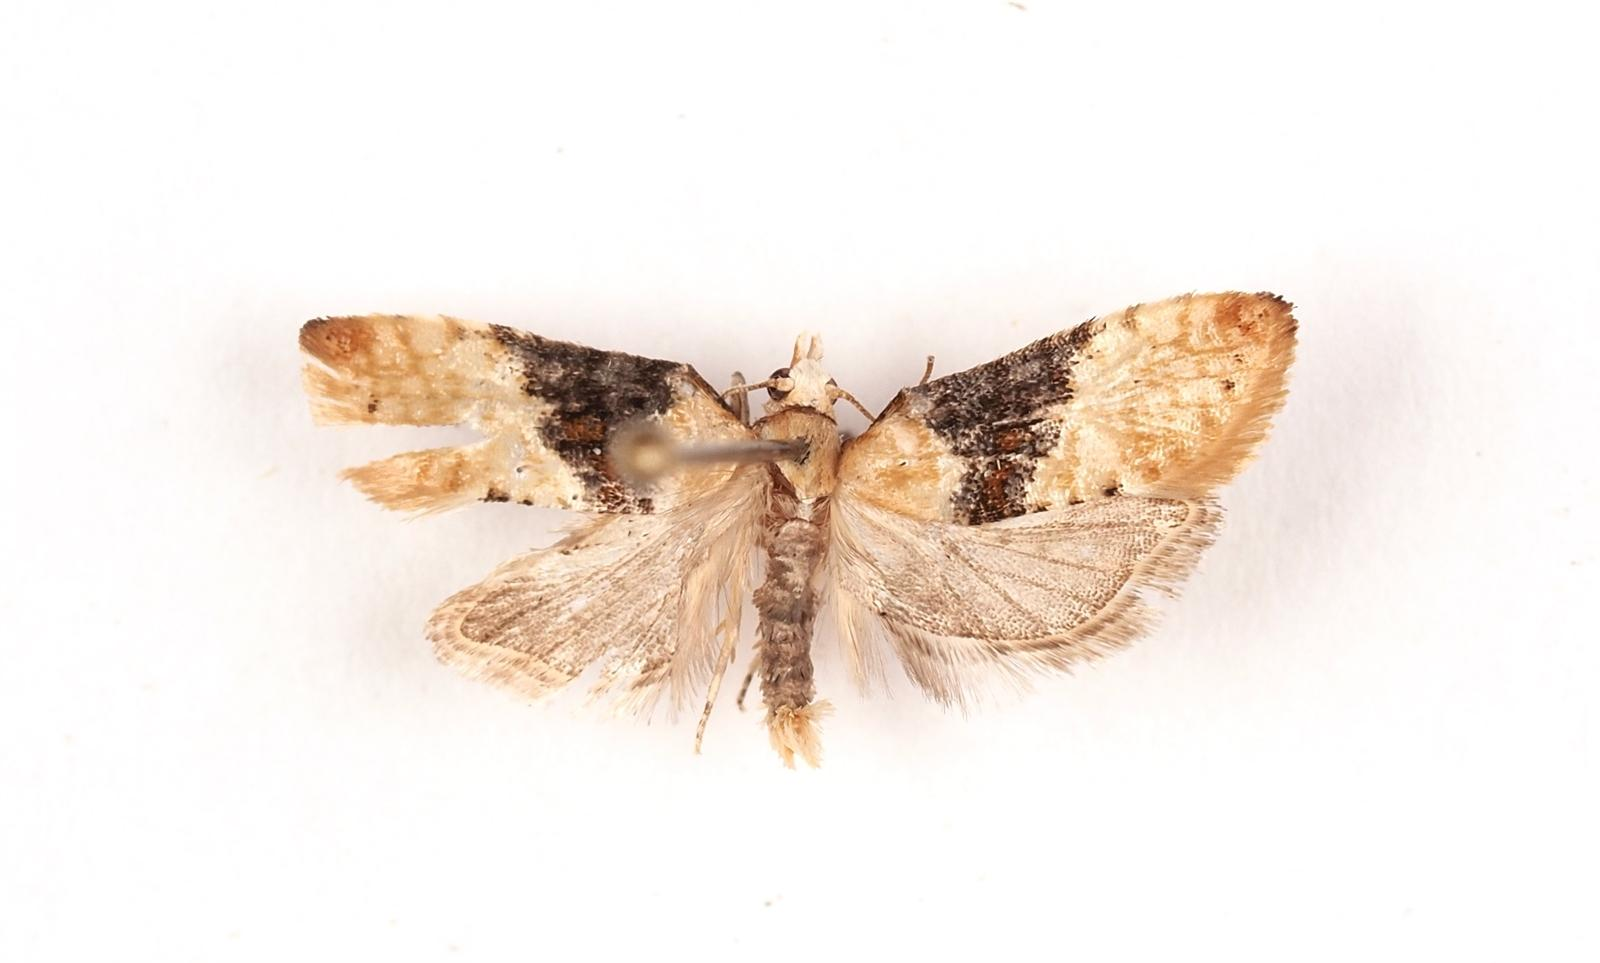Eupoecilia Ambiguella: (293, 284, 1302, 772)
